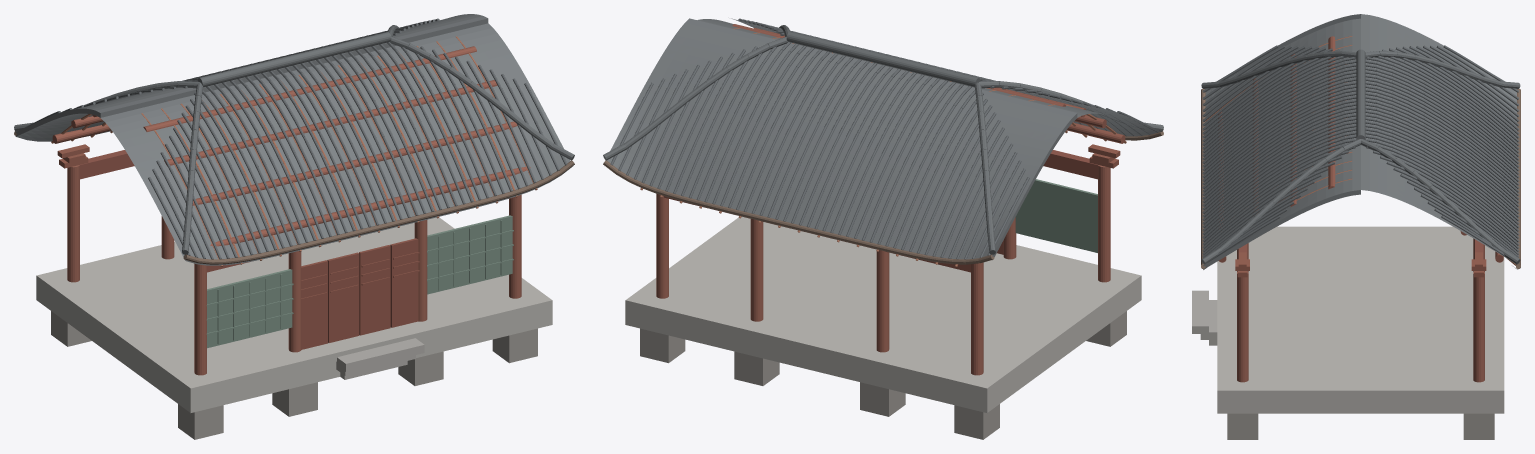
File: t0b-professional-hall.glb
3 renders of one model, left to right at view 1: azimuth 30°, elevation 25°; view 2: azimuth 150°, elevation 25°; view 3: azimuth 270°, elevation 25°, orthographic. The views are drawn at different scales.
Visible parts, largest first — view 1: roofSurface|roof:surface:south|fc2f8704-77f3-5a6f-8d21-662c7, terrace|terrace:main|38301c4e-3ece-5a39-ac41-3ed7353cde3f, tiles|tiles:-1|a05d3dec-23cd-58d4-bb3d-d4b5b0e4ddd2, door|opening:1|72cba1e7-e593-5193-a369-d2d1b46377d1, latticeWindow|opening:0|93526130-8dd2-561a-aa8b-6431ae9d1cf0, latticeWindow|opening:2|5fc5ae0d-2193-5667-8e39-9902207ab7b6, roofSurface|roof:surface:north|fee6303b-43f7-5001-8420-078df, eave|eave:-1|268530ca-e098-5c98-88a2-4e3e3c93a799, ridge|ridge:main|528508c5-e906-51af-a5ce-83d479e7f61f, purlin|purlin:-1:2|d8e75e2f-afda-58f8-abc7-b8153c07d70e, purlin|purlin:-1:3|c323583c-1688-524a-a88c-32a51af6823b, purlin|purlin:-1:1|368d5e60-6f6f-589c-9933-661a92413c59 (+18 smaller); view 2: terrace|terrace:main|38301c4e-3ece-5a39-ac41-3ed7353cde3f, roofSurface|roof:surface:north|fee6303b-43f7-5001-8420-078df, tiles|tiles:1|bb80c64a-5035-57bc-afa4-e424f806794e, latticeWindow|opening:0|93526130-8dd2-561a-aa8b-6431ae9d1cf0, eave|eave:1|39a5df71-3d05-5463-b5dd-b3f052edd542, roofSurface|roof:surface:south|fc2f8704-77f3-5a6f-8d21-662c7, ridge|ridge:main|528508c5-e906-51af-a5ce-83d479e7f61f, ridge|ridge:hip:1:1|98525c35-4f72-5c91-9c2a-f74fab2702f3, column|column:0:0|e3187c1c-5e4c-5129-aebf-9a0cc43268ba, column|column:1:0|1766d540-b688-58b7-b377-0d915006069e, column|column:1:2|dffb3f03-d6e8-5e22-a68e-38566ed3a547, column|column:1:1|70cc7f9b-68ca-5acb-92fc-d6f15900cc4d (+11 smaller); view 3: terrace|terrace:main|38301c4e-3ece-5a39-ac41-3ed7353cde3f, tiles|tiles:-1|a05d3dec-23cd-58d4-bb3d-d4b5b0e4ddd2, tiles|tiles:1|bb80c64a-5035-57bc-afa4-e424f806794e, roofSurface|roof:surface:north|fee6303b-43f7-5001-8420-078df, roofSurface|roof:surface:south|fc2f8704-77f3-5a6f-8d21-662c7, column|column:0:3|185653d7-d04e-5b12-bd36-7a8528f05069, column|column:1:3|a7cd1c9f-55a7-5d58-a8ca-213f993c7ca2, ridge|ridge:hip:1:1|98525c35-4f72-5c91-9c2a-f74fab2702f3, ridge|ridge:hip:-1:1|8e088025-804d-588c-9733-d5d81107dc98, ridge|ridge:hip:-1:-1|4da4c44e-d3df-55c1-9245-1e6aa7c12526, ridge|ridge:hip:1:-1|7c9af611-b493-5dc3-8faf-b827e0da4c57, ridge|ridge:main|528508c5-e906-51af-a5ce-83d479e7f61f (+7 smaller).
Boxes of the visible parts, x1,y1,x2,y2 form: roofSurface|roof:surface:south|fc2f8704-77f3-5a6f-8d21-662c7: (100,18,572,265); terrace|terrace:main|38301c4e-3ece-5a39-ac41-3ed7353cde3f: (36,217,552,412); tiles|tiles:-1|a05d3dec-23cd-58d4-bb3d-d4b5b0e4ddd2: (148,42,567,259); door|opening:1|72cba1e7-e593-5193-a369-d2d1b46377d1: (301,238,419,349); latticeWindow|opening:0|93526130-8dd2-561a-aa8b-6431ae9d1cf0: (206,269,293,348); latticeWindow|opening:2|5fc5ae0d-2193-5667-8e39-9902207ab7b6: (427,215,513,294); roofSurface|roof:surface:north|fee6303b-43f7-5001-8420-078df: (15,14,487,141); eave|eave:-1|268530ca-e098-5c98-88a2-4e3e3c93a799: (183,160,574,264); ridge|ridge:main|528508c5-e906-51af-a5ce-83d479e7f61f: (197,32,391,87); purlin|purlin:-1:2|d8e75e2f-afda-58f8-abc7-b8153c07d70e: (192,121,517,205); purlin|purlin:-1:3|c323583c-1688-524a-a88c-32a51af6823b: (210,167,530,246); purlin|purlin:-1:1|368d5e60-6f6f-589c-9933-661a92413c59: (164,80,497,165); terrace|terrace:main|38301c4e-3ece-5a39-ac41-3ed7353cde3f: (625,216,1141,412); roofSurface|roof:surface:north|fee6303b-43f7-5001-8420-078df: (605,18,1077,260); tiles|tiles:1|bb80c64a-5035-57bc-afa4-e424f806794e: (610,42,1029,259); latticeWindow|opening:0|93526130-8dd2-561a-aa8b-6431ae9d1cf0: (1015,179,1097,252); eave|eave:1|39a5df71-3d05-5463-b5dd-b3f052edd542: (603,160,994,264); roofSurface|roof:surface:south|fc2f8704-77f3-5a6f-8d21-662c7: (697,18,1161,136); ridge|ridge:main|528508c5-e906-51af-a5ce-83d479e7f61f: (786,32,980,87); ridge|ridge:hip:1:1|98525c35-4f72-5c91-9c2a-f74fab2702f3: (603,36,788,160); column|column:0:0|e3187c1c-5e4c-5129-aebf-9a0cc43268ba: (1098,165,1110,282); column|column:1:0|1766d540-b688-58b7-b377-0d915006069e: (971,262,983,375); column|column:1:2|dffb3f03-d6e8-5e22-a68e-38566ed3a547: (750,219,763,321); column|column:1:1|70cc7f9b-68ca-5acb-92fc-d6f15900cc4d: (876,250,889,352); terrace|terrace:main|38301c4e-3ece-5a39-ac41-3ed7353cde3f: (1217,226,1504,413); tiles|tiles:-1|a05d3dec-23cd-58d4-bb3d-d4b5b0e4ddd2: (1202,45,1356,263); tiles|tiles:1|bb80c64a-5035-57bc-afa4-e424f806794e: (1365,45,1519,264); roofSurface|roof:surface:north|fee6303b-43f7-5001-8420-078df: (1361,14,1517,269); roofSurface|roof:surface:south|fc2f8704-77f3-5a6f-8d21-662c7: (1203,14,1360,269); column|column:0:3|185653d7-d04e-5b12-bd36-7a8528f05069: (1237,272,1248,382); column|column:1:3|a7cd1c9f-55a7-5d58-a8ca-213f993c7ca2: (1473,272,1484,382); ridge|ridge:hip:1:1|98525c35-4f72-5c91-9c2a-f74fab2702f3: (1361,139,1520,264); ridge|ridge:hip:-1:1|8e088025-804d-588c-9733-d5d81107dc98: (1201,139,1360,264); ridge|ridge:hip:-1:-1|4da4c44e-d3df-55c1-9245-1e6aa7c12526: (1201,51,1356,88); ridge|ridge:hip:1:-1|7c9af611-b493-5dc3-8faf-b827e0da4c57: (1365,51,1520,88); ridge|ridge:main|528508c5-e906-51af-a5ce-83d479e7f61f: (1356,49,1365,139).
Size of the model in its own units: 14.99 by 10.58 by 11.69.
